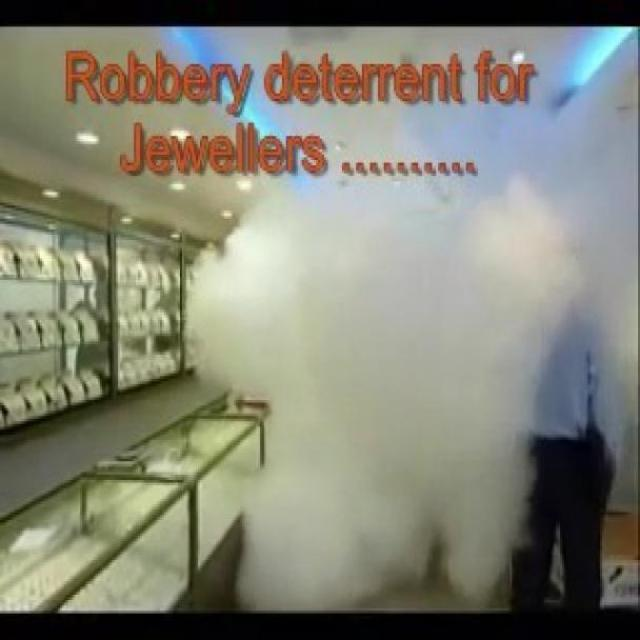Smoke: (171, 188, 568, 592), (392, 159, 541, 445), (244, 466, 554, 596), (534, 70, 638, 420), (205, 364, 360, 534), (304, 134, 449, 282), (194, 212, 321, 336)
